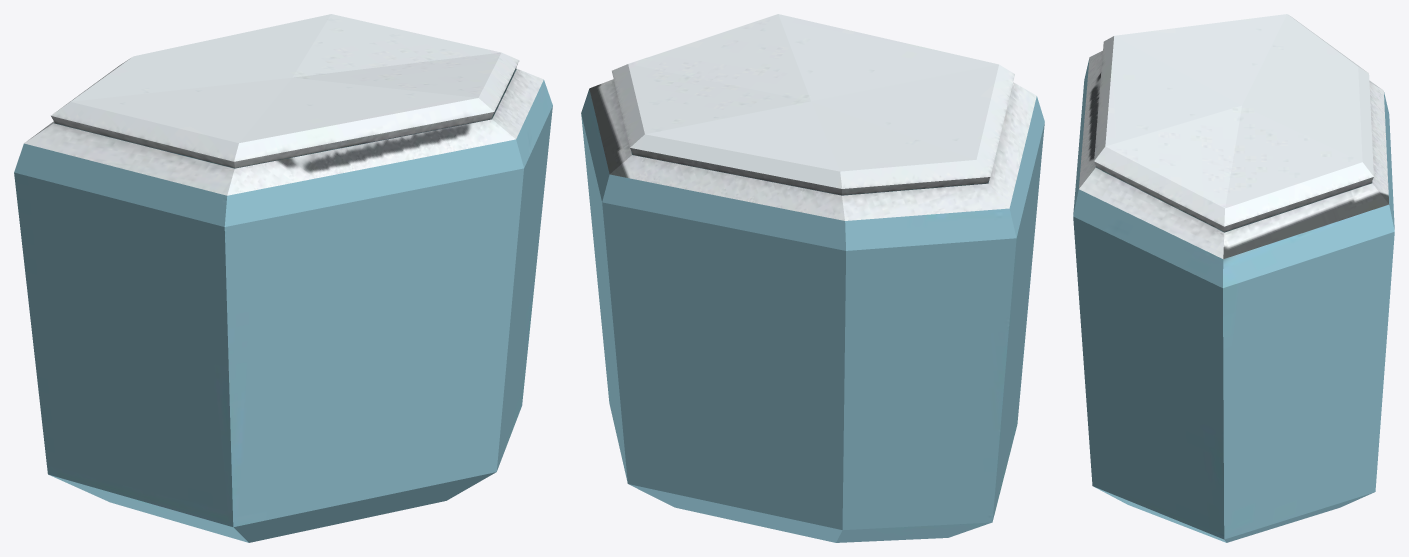
The picture shows the model from 3 angles, left to right: view 1: azimuth 30°, elevation 25°; view 2: azimuth 150°, elevation 25°; view 3: azimuth 270°, elevation 25°; orthographic projection. The views are drawn at different scales.
Visible parts, largest first — view 1: Glossy_ice_blue, Snow_and_frosted_edges; view 2: Glossy_ice_blue, Snow_and_frosted_edges; view 3: Glossy_ice_blue, Snow_and_frosted_edges.
Part boxes in pixels (x1=…): Glossy_ice_blue: x1=14, y1=68, x2=552, y2=542; Snow_and_frosted_edges: x1=24, y1=14, x2=543, y2=195; Glossy_ice_blue: x1=581, y1=89, x2=1044, y2=542; Snow_and_frosted_edges: x1=589, y1=14, x2=1036, y2=220; Glossy_ice_blue: x1=1073, y1=59, x2=1394, y2=542; Snow_and_frosted_edges: x1=1079, y1=14, x2=1389, y2=259.
Bounding box in the file's own units: 0.93 × 0.7562 × 0.58.
4 materials, 4 textured.
